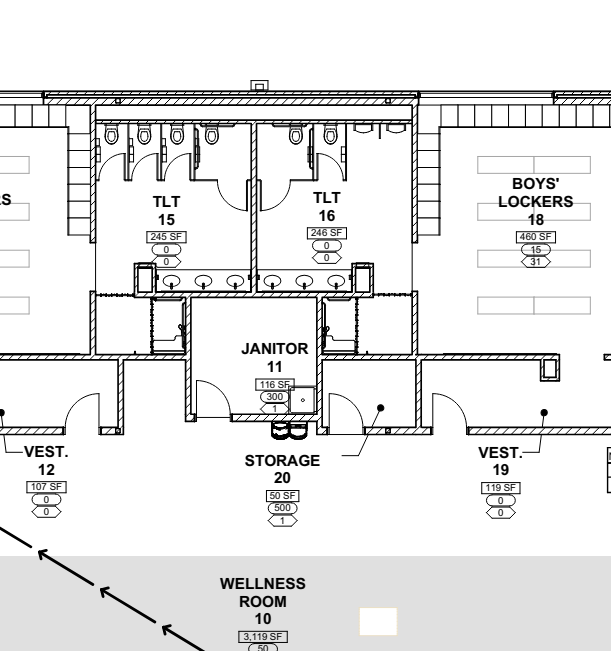door: (326, 390, 367, 446), (192, 377, 233, 429), (428, 391, 471, 439), (62, 391, 103, 439), (258, 174, 294, 216), (211, 176, 249, 214), (127, 149, 159, 189), (314, 149, 345, 186), (160, 151, 192, 185), (95, 152, 126, 184)
